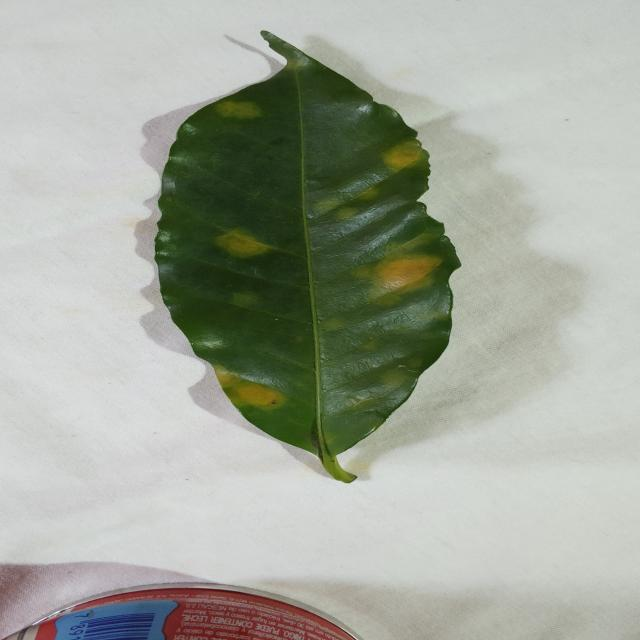Enfermedad-Roya: (153, 31, 462, 483)
